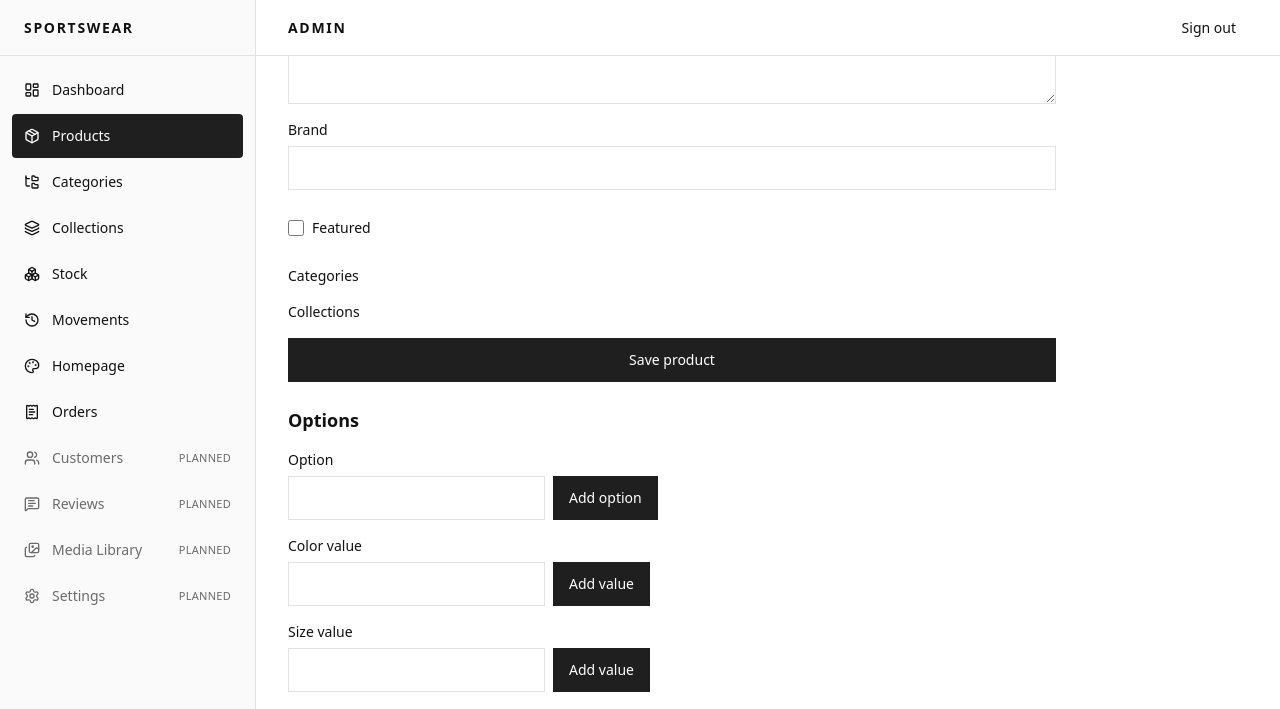
Test: catalogue administration › shows a stale version instead of retrying the write
The image size is (1280, 709).
(page scrolled)
Click the button "Save product": (672, 360) [288,338,1056,382]
(page scrolled)
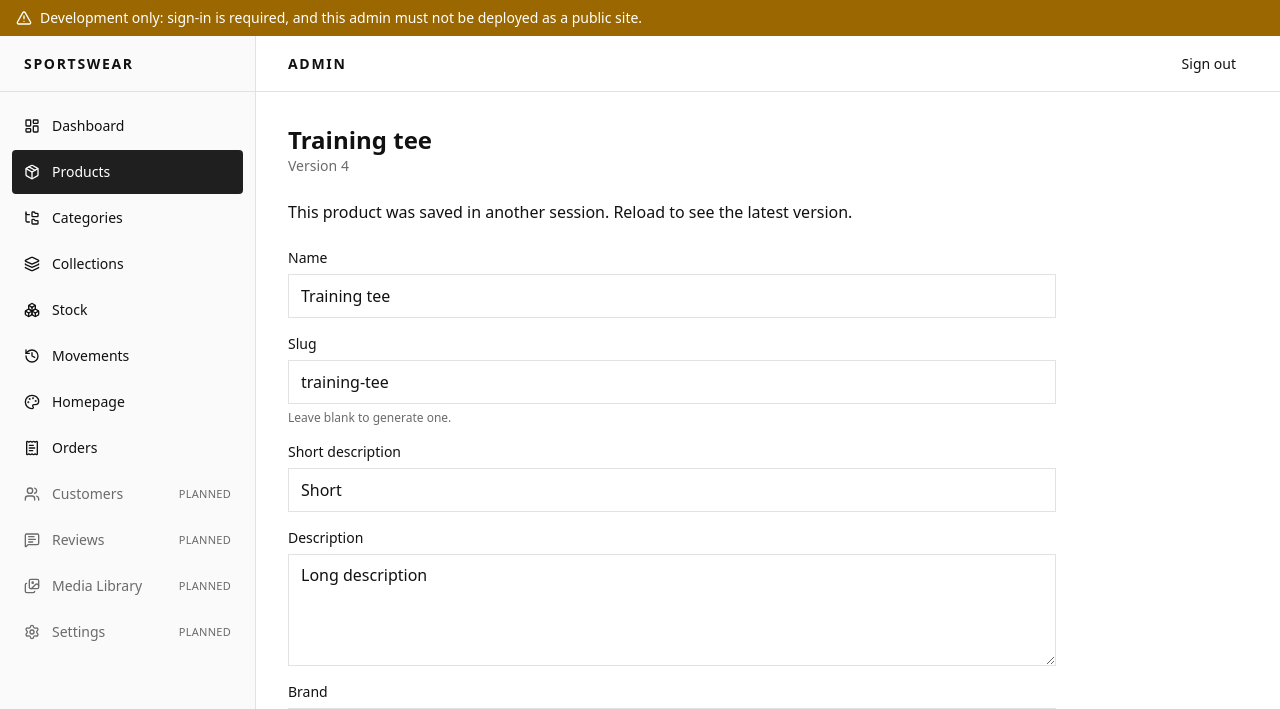
Now the message shows "another session", box [288,201,852,223]
